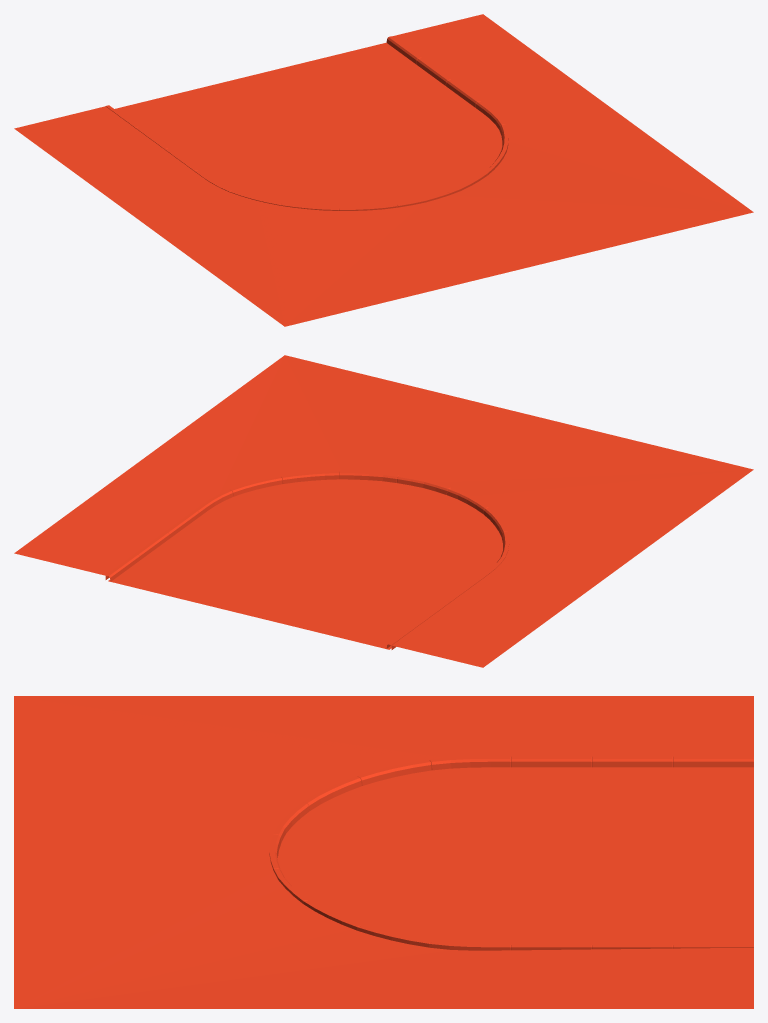
The model's file is SM_Road_End_10x10_City.fbx.
3 renders of one model, top to bottom at view 1: azimuth 30°, elevation 25°; view 2: azimuth 150°, elevation 25°; view 3: azimuth 270°, elevation 25°, orthographic. The views are drawn at different scales.
Parts seen in each view (by area): view 1: SM_Road_End_10x10_City; view 2: SM_Road_End_10x10_City; view 3: SM_Road_End_10x10_City.
Boxes of the visible parts, x1,y1,x2,y2 form: SM_Road_End_10x10_City: (14, 14, 753, 326); SM_Road_End_10x10_City: (14, 355, 753, 667); SM_Road_End_10x10_City: (14, 696, 753, 1008).
Size of the model in its own units: 10 by 0.1084 by 10.
